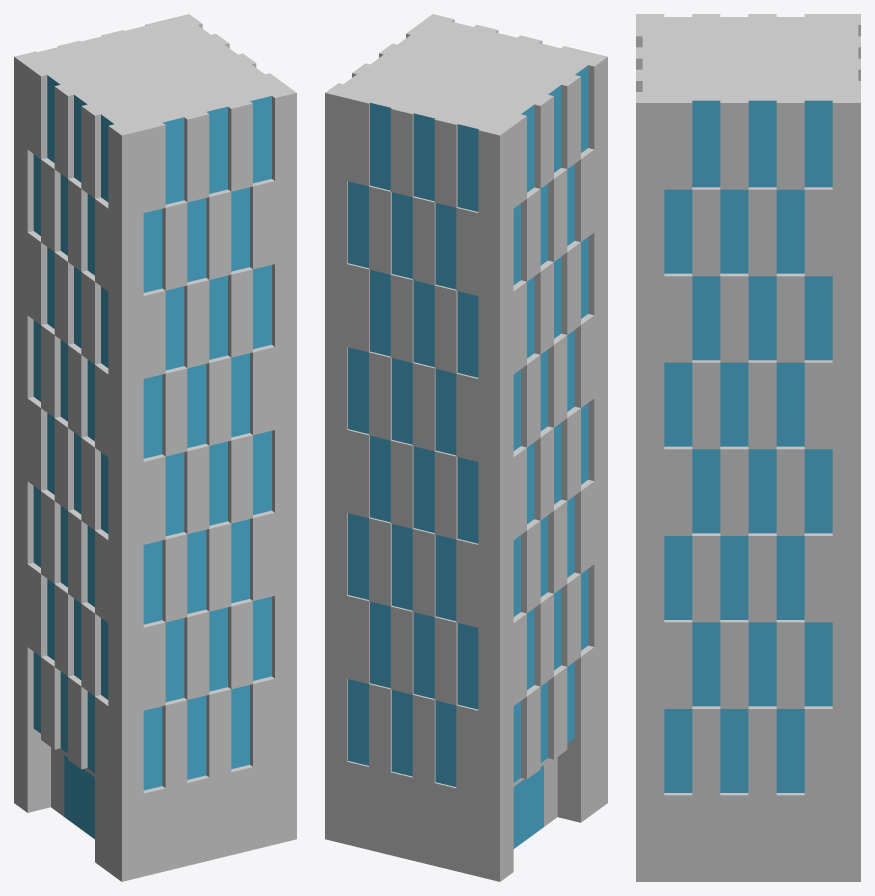
File: SkyScraper2_HT.fbx
3 views of the same model, side by side, from view 1: azimuth 30°, elevation 25°; view 2: azimuth 150°, elevation 25°; view 3: azimuth 270°, elevation 25° (orthographic). The views are drawn at different scales.
Parts seen in each view (by area): view 1: edificio; view 2: edificio; view 3: edificio.
Part boxes in pixels (left/top/right/bottom): edificio: left=14, top=14, right=296, bottom=881; edificio: left=325, top=14, right=607, bottom=881; edificio: left=636, top=14, right=860, bottom=881.
Bounding box in the file's own units: 881 × 3588 × 939.
